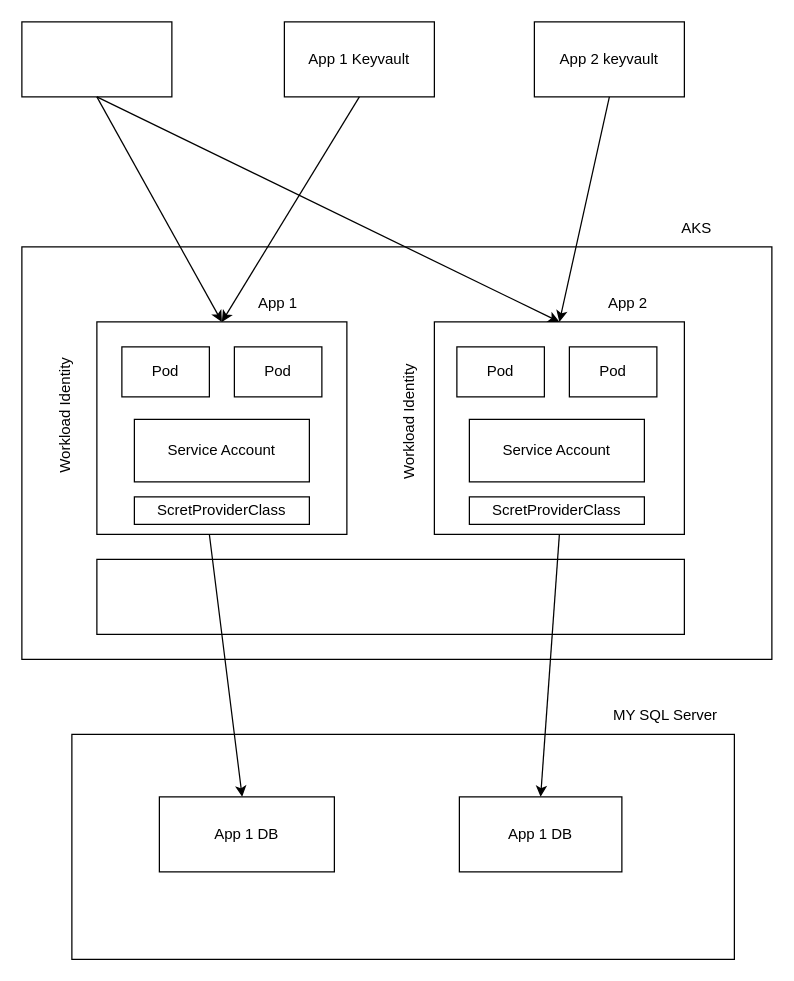
Some shapes in this 794 by 981 pixel diagram are drawn without their labels. The shapes that lost their labels are listed below. From the top down, each one's box as (x1, y1, x2, y2) in pixels, then its label:
(21, 21, 172, 97): Azure AD
(96, 558, 684, 634): Secret StoreCSI Driver
